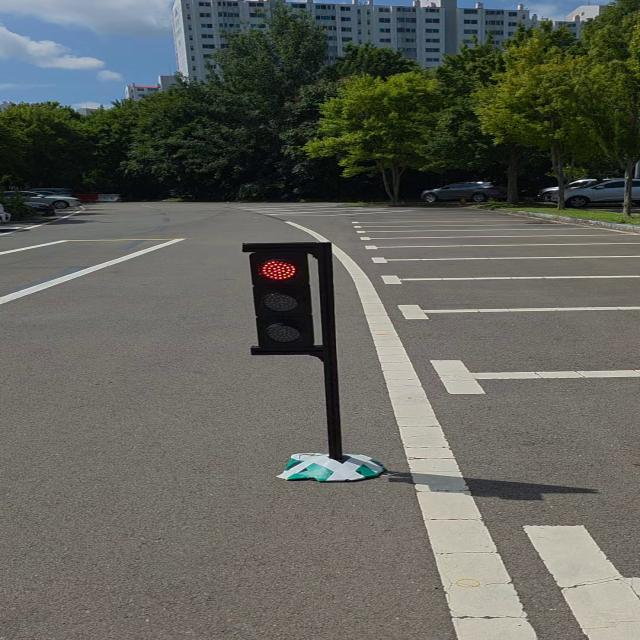red: (241, 242, 320, 361)
